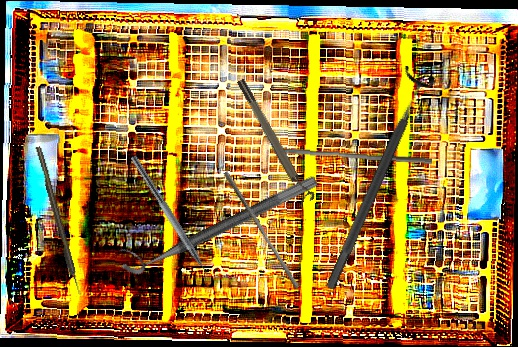Chopper: (121, 154, 219, 291)
Fixation Ring: (313, 64, 438, 296), (113, 158, 320, 281), (234, 74, 317, 207)
Hook Surgical: (35, 145, 82, 297)
Pusher: (218, 170, 304, 290), (273, 146, 433, 164)
